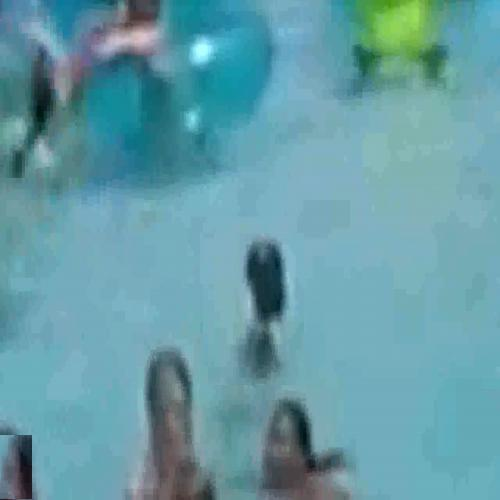drowning: (203, 233, 305, 386)
swimming: (77, 0, 189, 117), (136, 360, 196, 500), (267, 396, 342, 499), (0, 435, 33, 500)
